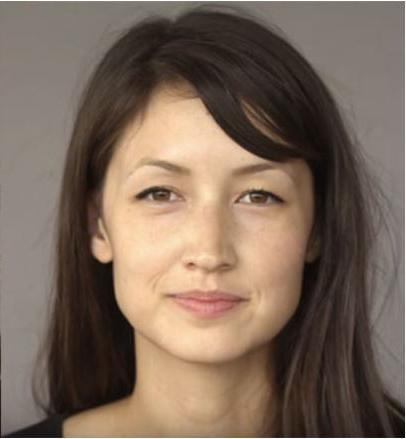Sober: (127, 116, 296, 343)
